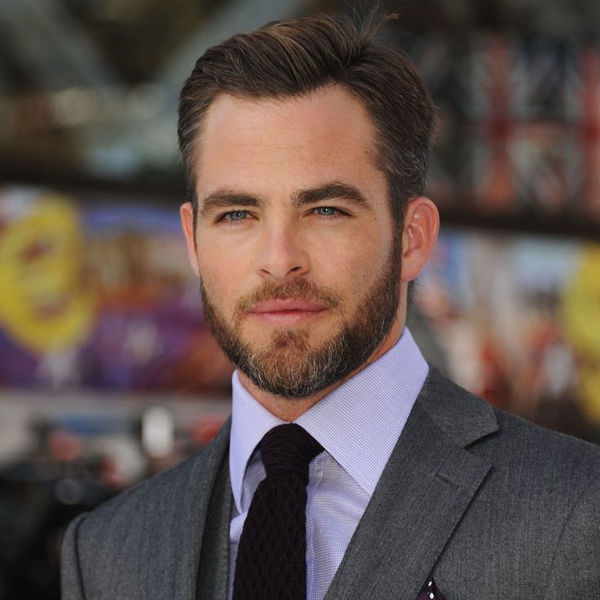beard: (190, 265, 408, 397)
tie: (226, 416, 337, 594)
